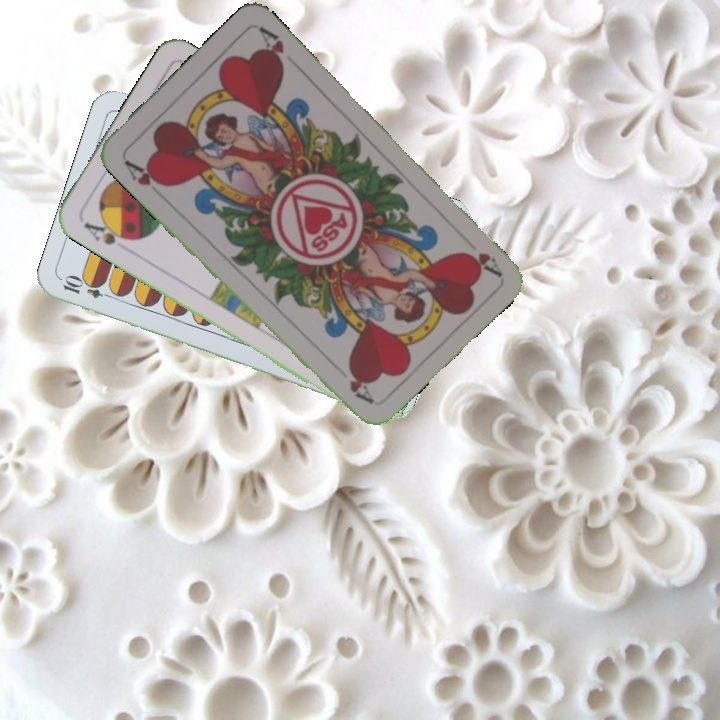E10: (59, 274, 118, 302)
HA: (120, 155, 171, 190), (458, 247, 504, 279)
SA: (79, 216, 136, 248)
